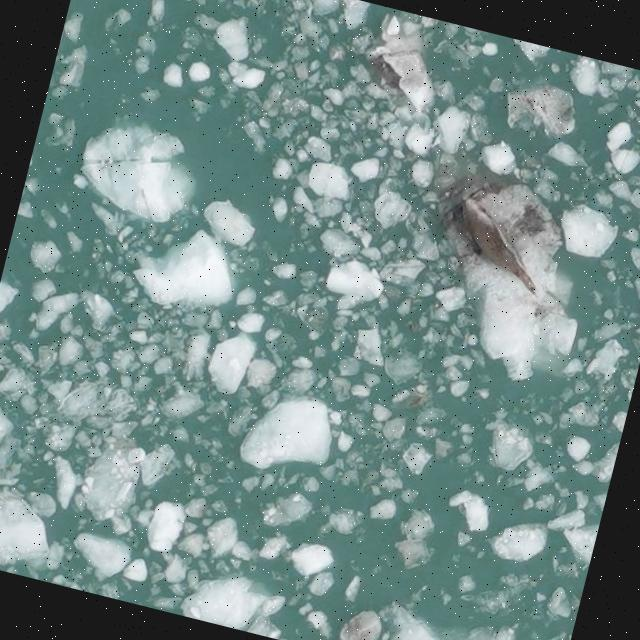seal: (461, 195, 538, 292)
